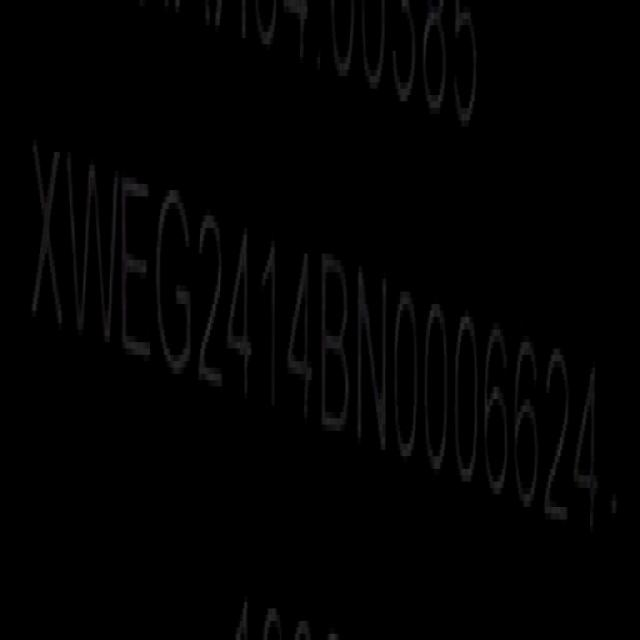0: (395, 280, 422, 470), (424, 294, 450, 486), (455, 305, 481, 491)
1: (260, 231, 280, 419)
2: (198, 200, 226, 400), (545, 344, 574, 532)
4: (287, 238, 317, 433), (573, 350, 602, 538), (227, 215, 254, 408)
6: (512, 326, 541, 518), (482, 314, 510, 504)
B: (319, 251, 351, 447)
E: (119, 157, 154, 372)
G: (155, 174, 194, 384)
N: (359, 261, 393, 463)
W: (69, 144, 119, 361)
X: (30, 130, 66, 348)
